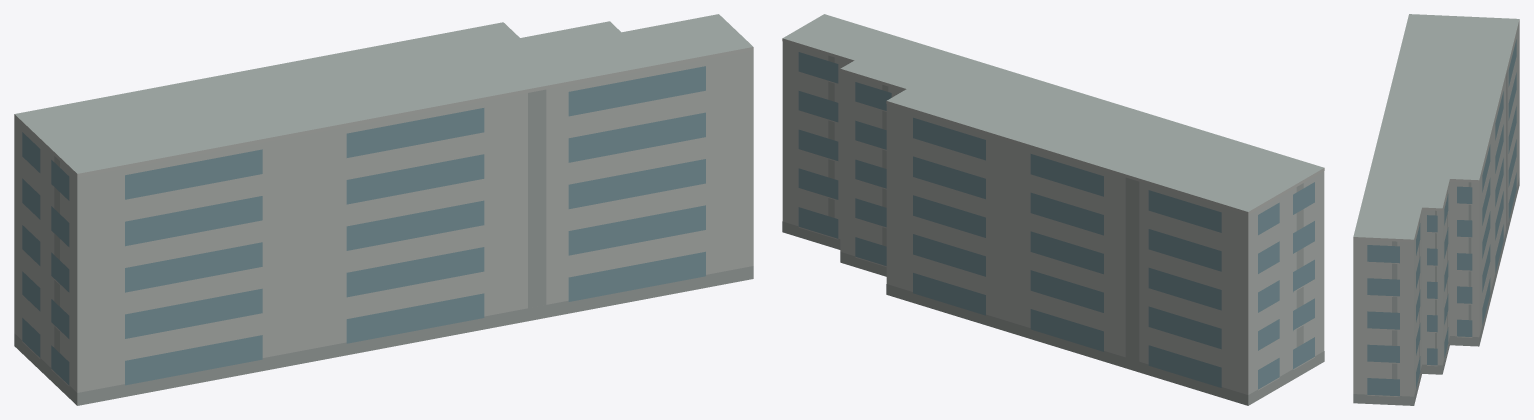
File: residential-9f71cefc-b67a-426e-88ac-4b3832bd660e.glb
3 renders of one model, left to right at view 1: azimuth 30°, elevation 25°; view 2: azimuth 150°, elevation 25°; view 3: azimuth 270°, elevation 25°, orthographic. The views are drawn at different scales.
Parts seen in each view (by area): view 1: residential-9f71cefc-b67a-426e-88ac-4b3832bd660e.tmp; view 2: residential-9f71cefc-b67a-426e-88ac-4b3832bd660e.tmp; view 3: residential-9f71cefc-b67a-426e-88ac-4b3832bd660e.tmp.
Boxes of the visible parts, x1,y1,x2,y2 form: residential-9f71cefc-b67a-426e-88ac-4b3832bd660e.tmp: (14, 14, 753, 405); residential-9f71cefc-b67a-426e-88ac-4b3832bd660e.tmp: (782, 14, 1324, 405); residential-9f71cefc-b67a-426e-88ac-4b3832bd660e.tmp: (1353, 14, 1519, 405).
Bounding box in the file's own units: 44.37 × 15.25 × 13.83.
